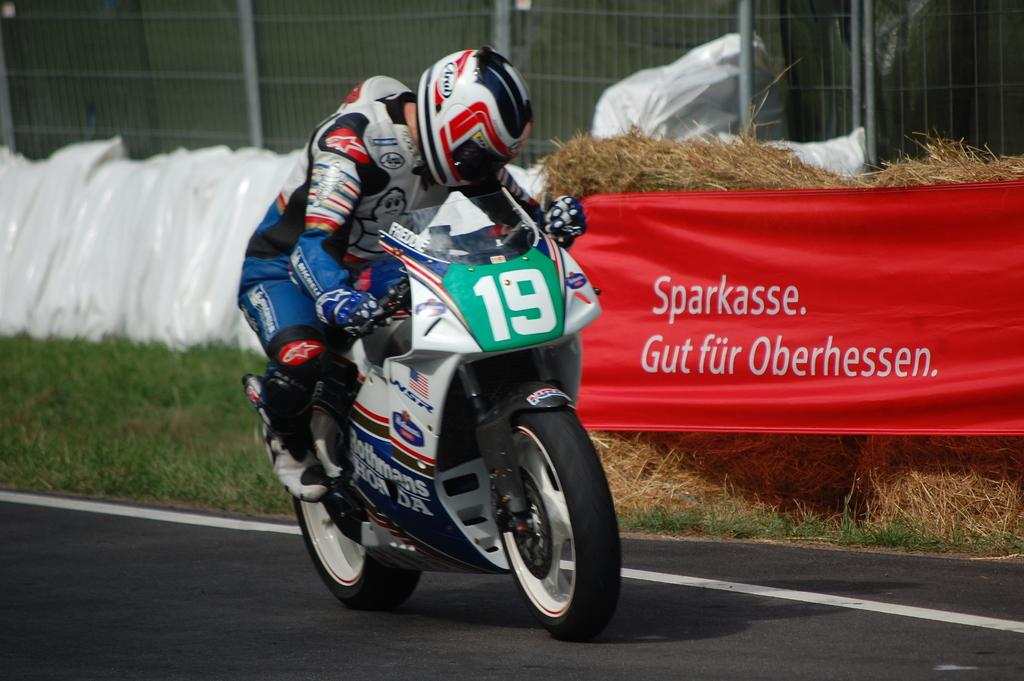helmet: (416, 49, 534, 187)
